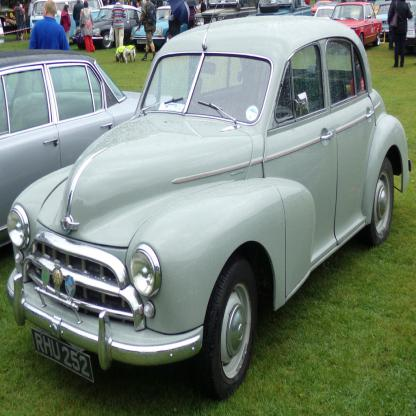Car: (6, 1, 411, 395), (0, 50, 174, 256), (28, 0, 415, 51)
